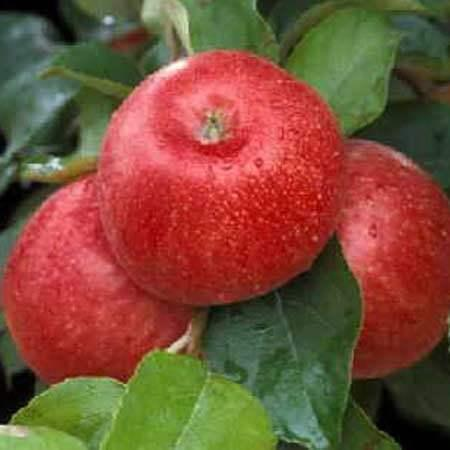apple: (91, 45, 347, 310), (4, 171, 205, 387)
